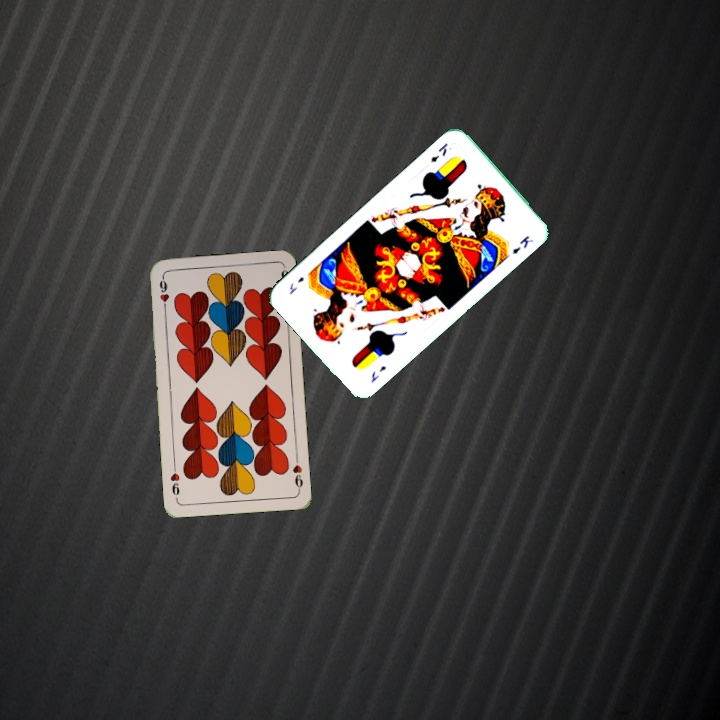EK: (427, 139, 450, 165), (367, 362, 389, 385)
H9: (155, 273, 172, 313), (289, 453, 305, 493)
